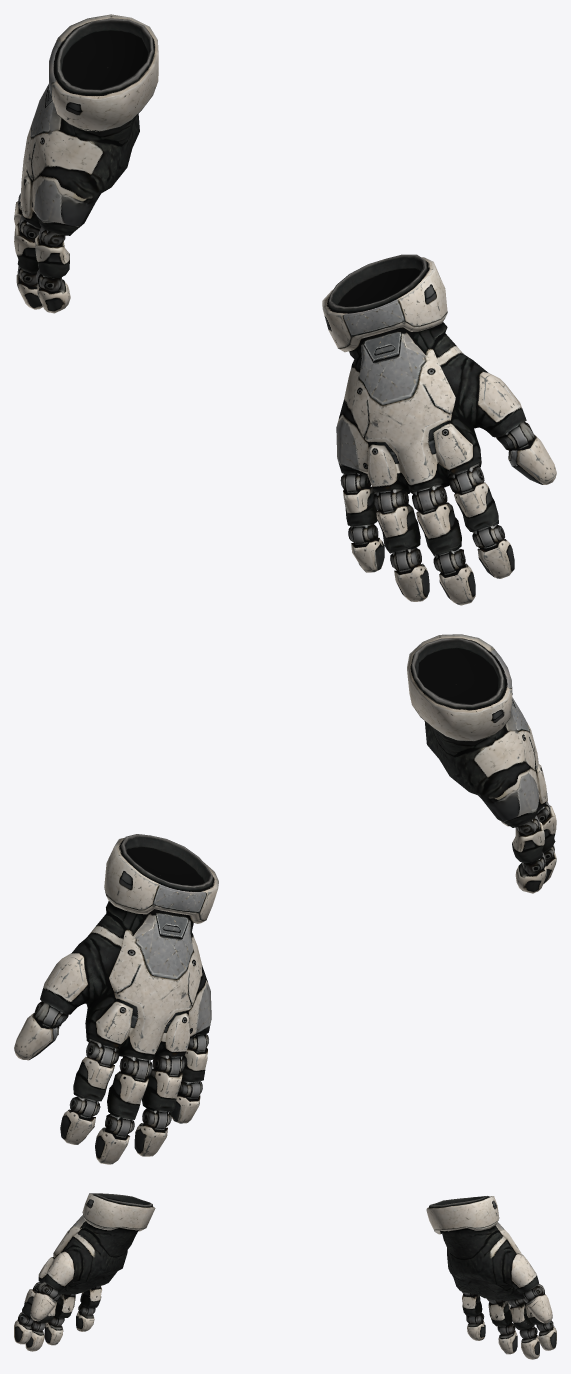
The model's file is Gloves_Common_01.glb.
3 views of the same model, one above another, from view 1: azimuth 30°, elevation 25°; view 2: azimuth 150°, elevation 25°; view 3: azimuth 270°, elevation 25° (orthographic). The views are drawn at different scales.
Visible parts, largest first — view 1: Glove_R, Glove_L; view 2: Glove_L, Glove_R; view 3: Glove_L, Glove_R.
Boxes of the visible parts, x1,y1,x2,y2 form: Glove_R: (322,254,556,605); Glove_L: (14,14,158,313); Glove_L: (14,834,218,1164); Glove_R: (407,634,556,893); Glove_L: (426,1196,556,1359); Glove_R: (14,1193,155,1351).
Size of the model in its own units: 0.2175 by 0.3623 by 1.05.
1 material, 1 textured.
